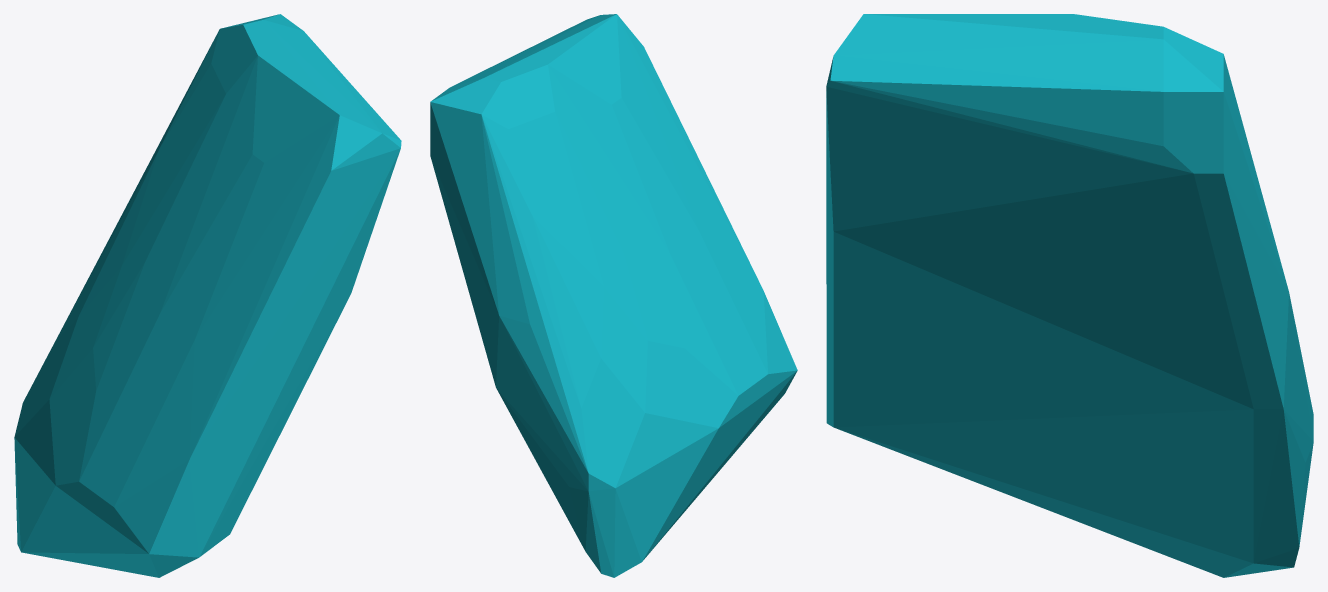
Rendered from mouth_cup009.obj.
The picture shows the model from 3 angles, left to right: view 1: azimuth 30°, elevation 25°; view 2: azimuth 150°, elevation 25°; view 3: azimuth 270°, elevation 25°; orthographic projection. The views are drawn at different scales.
Parts seen in each view (by area): view 1: mouth_cup009_mouth_cup009.001; view 2: mouth_cup009_mouth_cup009.001; view 3: mouth_cup009_mouth_cup009.001.
Boxes of the visible parts, x1,y1,x2,y2 form: mouth_cup009_mouth_cup009.001: (14, 14, 401, 577); mouth_cup009_mouth_cup009.001: (430, 14, 797, 577); mouth_cup009_mouth_cup009.001: (826, 14, 1313, 577).
Size of the model in its own units: 0.1322 by 0.2272 by 0.1533.
